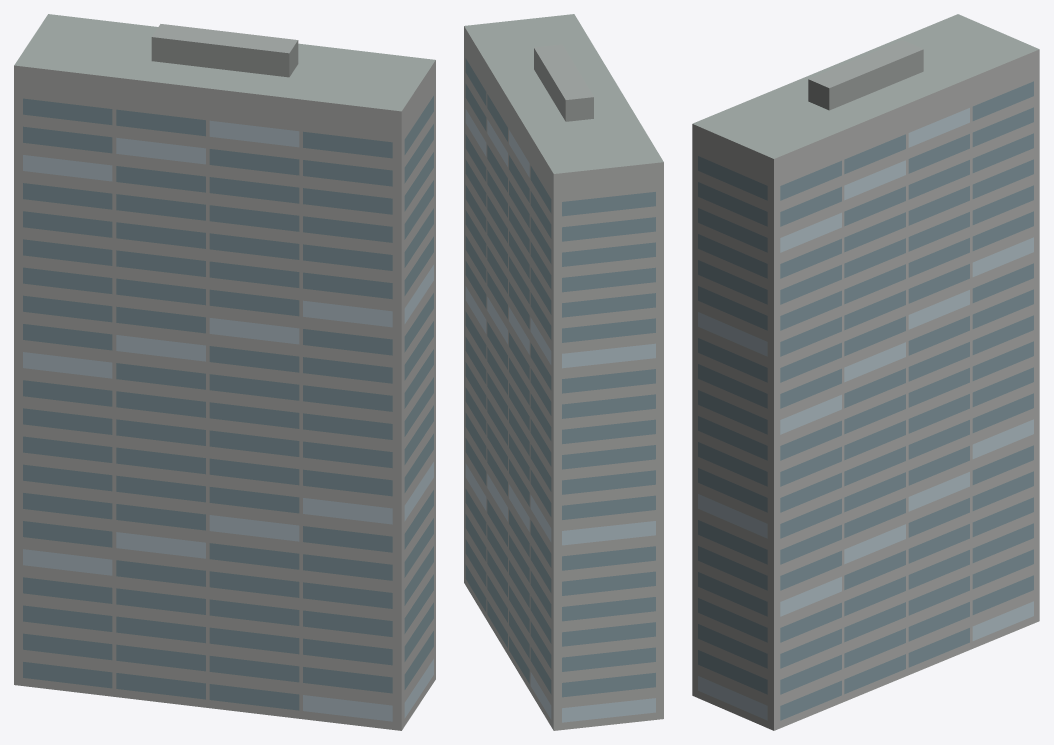
The model's file is fallback-gwanak-dream-town-116.glb.
3 renders of one model, left to right at view 1: azimuth 30°, elevation 25°; view 2: azimuth 150°, elevation 25°; view 3: azimuth 270°, elevation 25°, orthographic. The views are drawn at different scales.
Parts seen in each view (by area): view 1: fallback-gwanak-dream-town-116; view 2: fallback-gwanak-dream-town-116; view 3: fallback-gwanak-dream-town-116.
Part boxes in pixels (bbox=[...]): fallback-gwanak-dream-town-116: bbox=[14, 14, 435, 730]; fallback-gwanak-dream-town-116: bbox=[464, 14, 663, 730]; fallback-gwanak-dream-town-116: bbox=[692, 14, 1039, 730].
Size of the model in its own units: 33.51 by 64 by 33.92.
